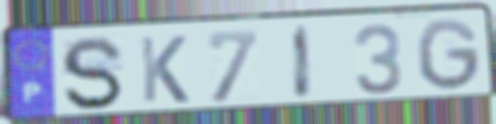3: (352, 21, 404, 96)
7: (205, 27, 264, 105)
G: (414, 16, 483, 94)
I: (291, 23, 315, 102)
K: (137, 34, 192, 105)
S: (58, 34, 127, 113)
